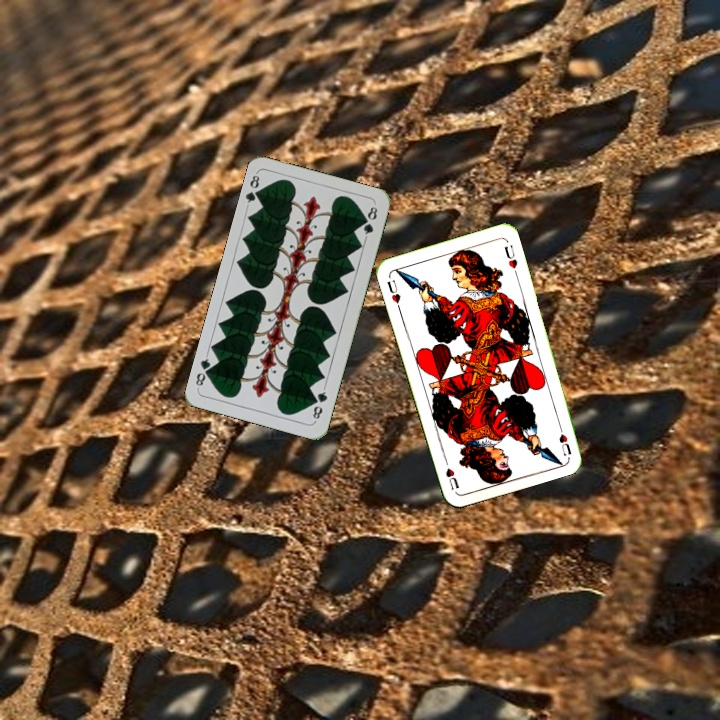G8: (242, 169, 265, 209), (309, 384, 330, 424)
HU: (554, 419, 574, 458), (383, 276, 403, 312)
